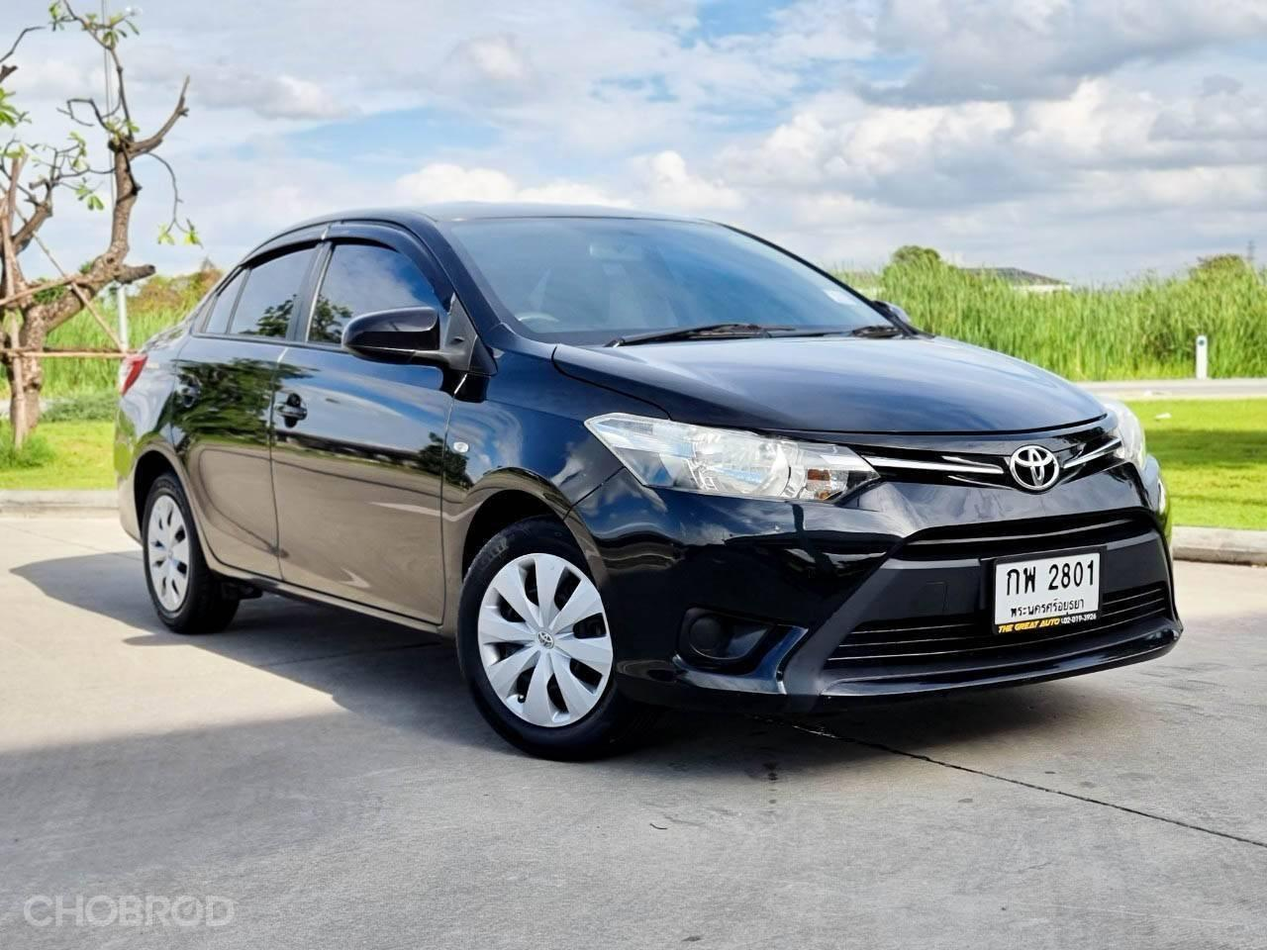license-plate: (981, 543, 1112, 639)
